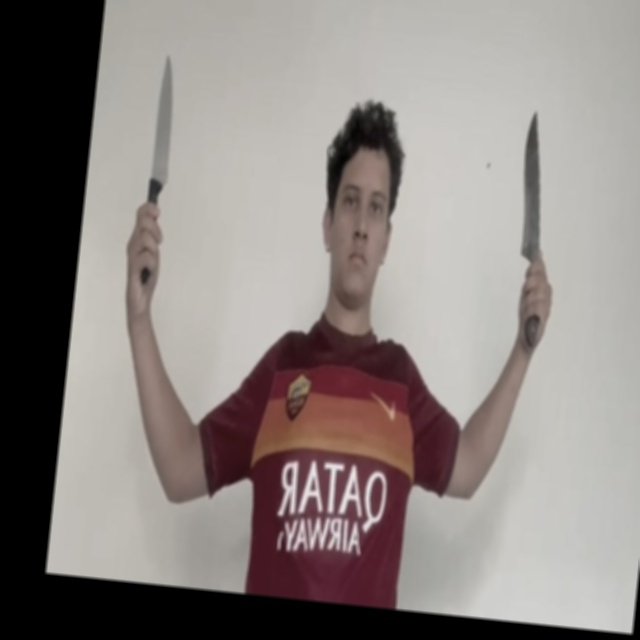Sharp-Object: (514, 109, 553, 259), (147, 54, 181, 190)
